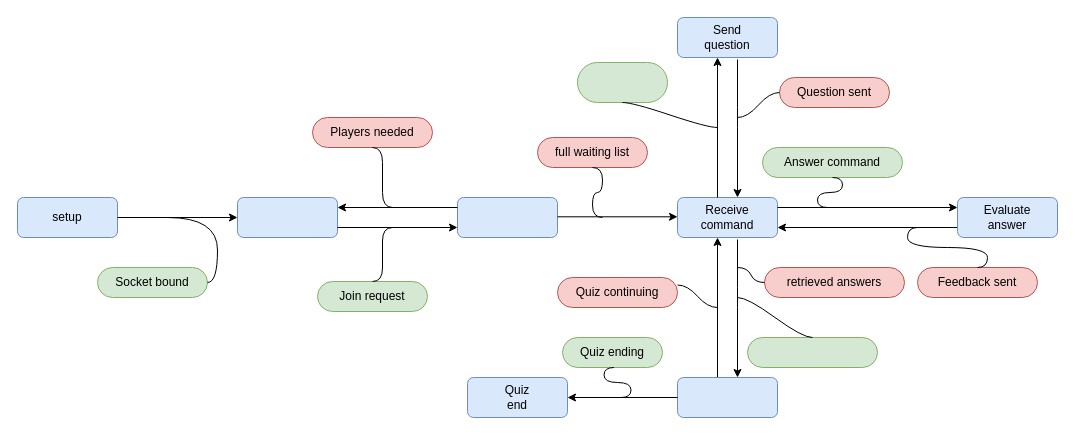
Some shapes in this 1075 by 435 pixel diagram are drawn without their labels. Each missing label, with the centre of its shape:
Handle join request: point (507, 217)
listening: point (287, 217)
Question command: point (622, 82)
Quiz status: point (727, 397)
Status command: point (812, 352)
